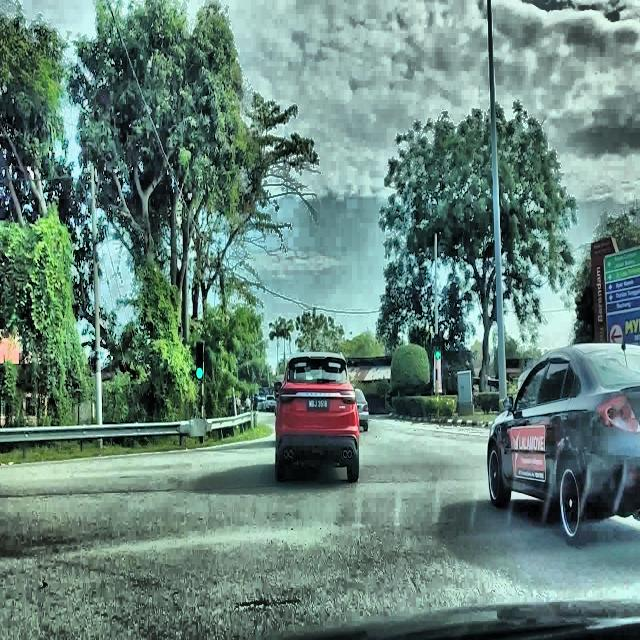green: (195, 340, 203, 380), (434, 334, 440, 359)
